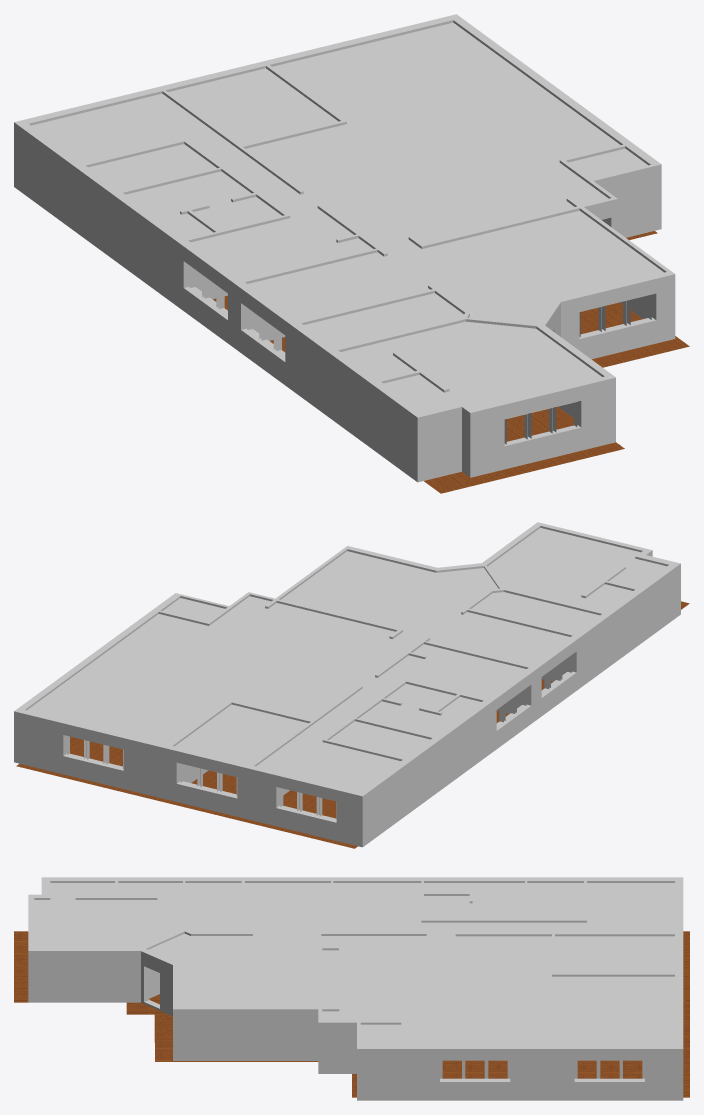
File: House_02.fbx
The picture shows the model from 3 angles, top to bottom: view 1: azimuth 30°, elevation 25°; view 2: azimuth 150°, elevation 25°; view 3: azimuth 270°, elevation 25°; orthographic projection. The views are drawn at different scales.
Visible parts, largest first — view 1: Roof.001, Walls.001, Floor, Windows.001; view 2: Roof.001, Walls.001, Floor, Windows.001; view 3: Roof.001, Walls.001, Floor, Windows.001.
Part boxes in pixels (box(x1,y1,x2,y2)): Roof.001: box(31, 22, 663, 411); Walls.001: box(14, 14, 675, 482); Floor: box(213, 231, 689, 493); Windows.001: box(189, 266, 652, 444); Roof.001: box(27, 528, 666, 791); Walls.001: box(14, 522, 680, 847); Floor: box(16, 601, 689, 848); Windows.001: box(67, 655, 571, 820); Roof.001: box(34, 883, 674, 1045); Walls.001: box(28, 877, 683, 1100); Floor: box(14, 931, 689, 1097); Windows.001: box(440, 1060, 644, 1078).
Bounding box in the file's own units: 1442 × 202 × 2400.
